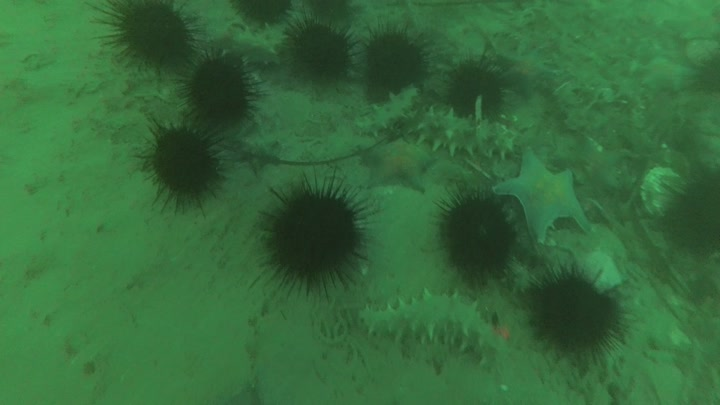echinus: (253, 166, 379, 306), (521, 260, 635, 380), (426, 181, 527, 295), (131, 114, 234, 223), (91, 1, 211, 81), (176, 41, 268, 135), (353, 18, 437, 104), (654, 162, 720, 268), (284, 14, 364, 93), (443, 49, 520, 131), (228, 1, 303, 28), (297, 1, 360, 28)
holothurian: (359, 287, 512, 370), (404, 107, 517, 160), (352, 82, 423, 139), (230, 24, 284, 68)
starfish: (492, 146, 597, 246), (359, 126, 437, 196), (557, 137, 630, 191), (499, 40, 560, 102), (634, 52, 697, 95)
